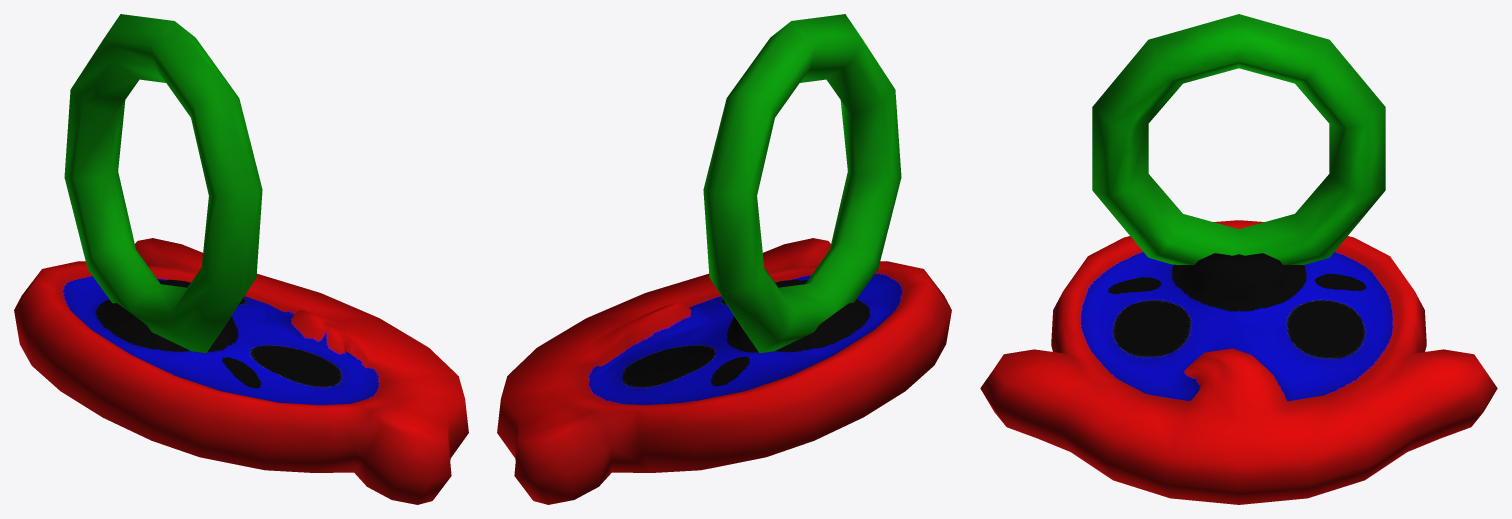
The picture shows the model from 3 angles, left to right: view 1: azimuth 30°, elevation 25°; view 2: azimuth 150°, elevation 25°; view 3: azimuth 270°, elevation 25°; orthographic projection. The views are drawn at different scales.
Parts seen in each view (by area): view 1: F1217; view 2: F1217; view 3: F1217.
Boxes of the visible parts, <box> form: F1217: <box>14,14,468,504</box>; F1217: <box>497,14,951,504</box>; F1217: <box>980,14,1497,504</box>.
Bounding box in the file's own units: 0.1642 × 0.1873 × 0.2256.
